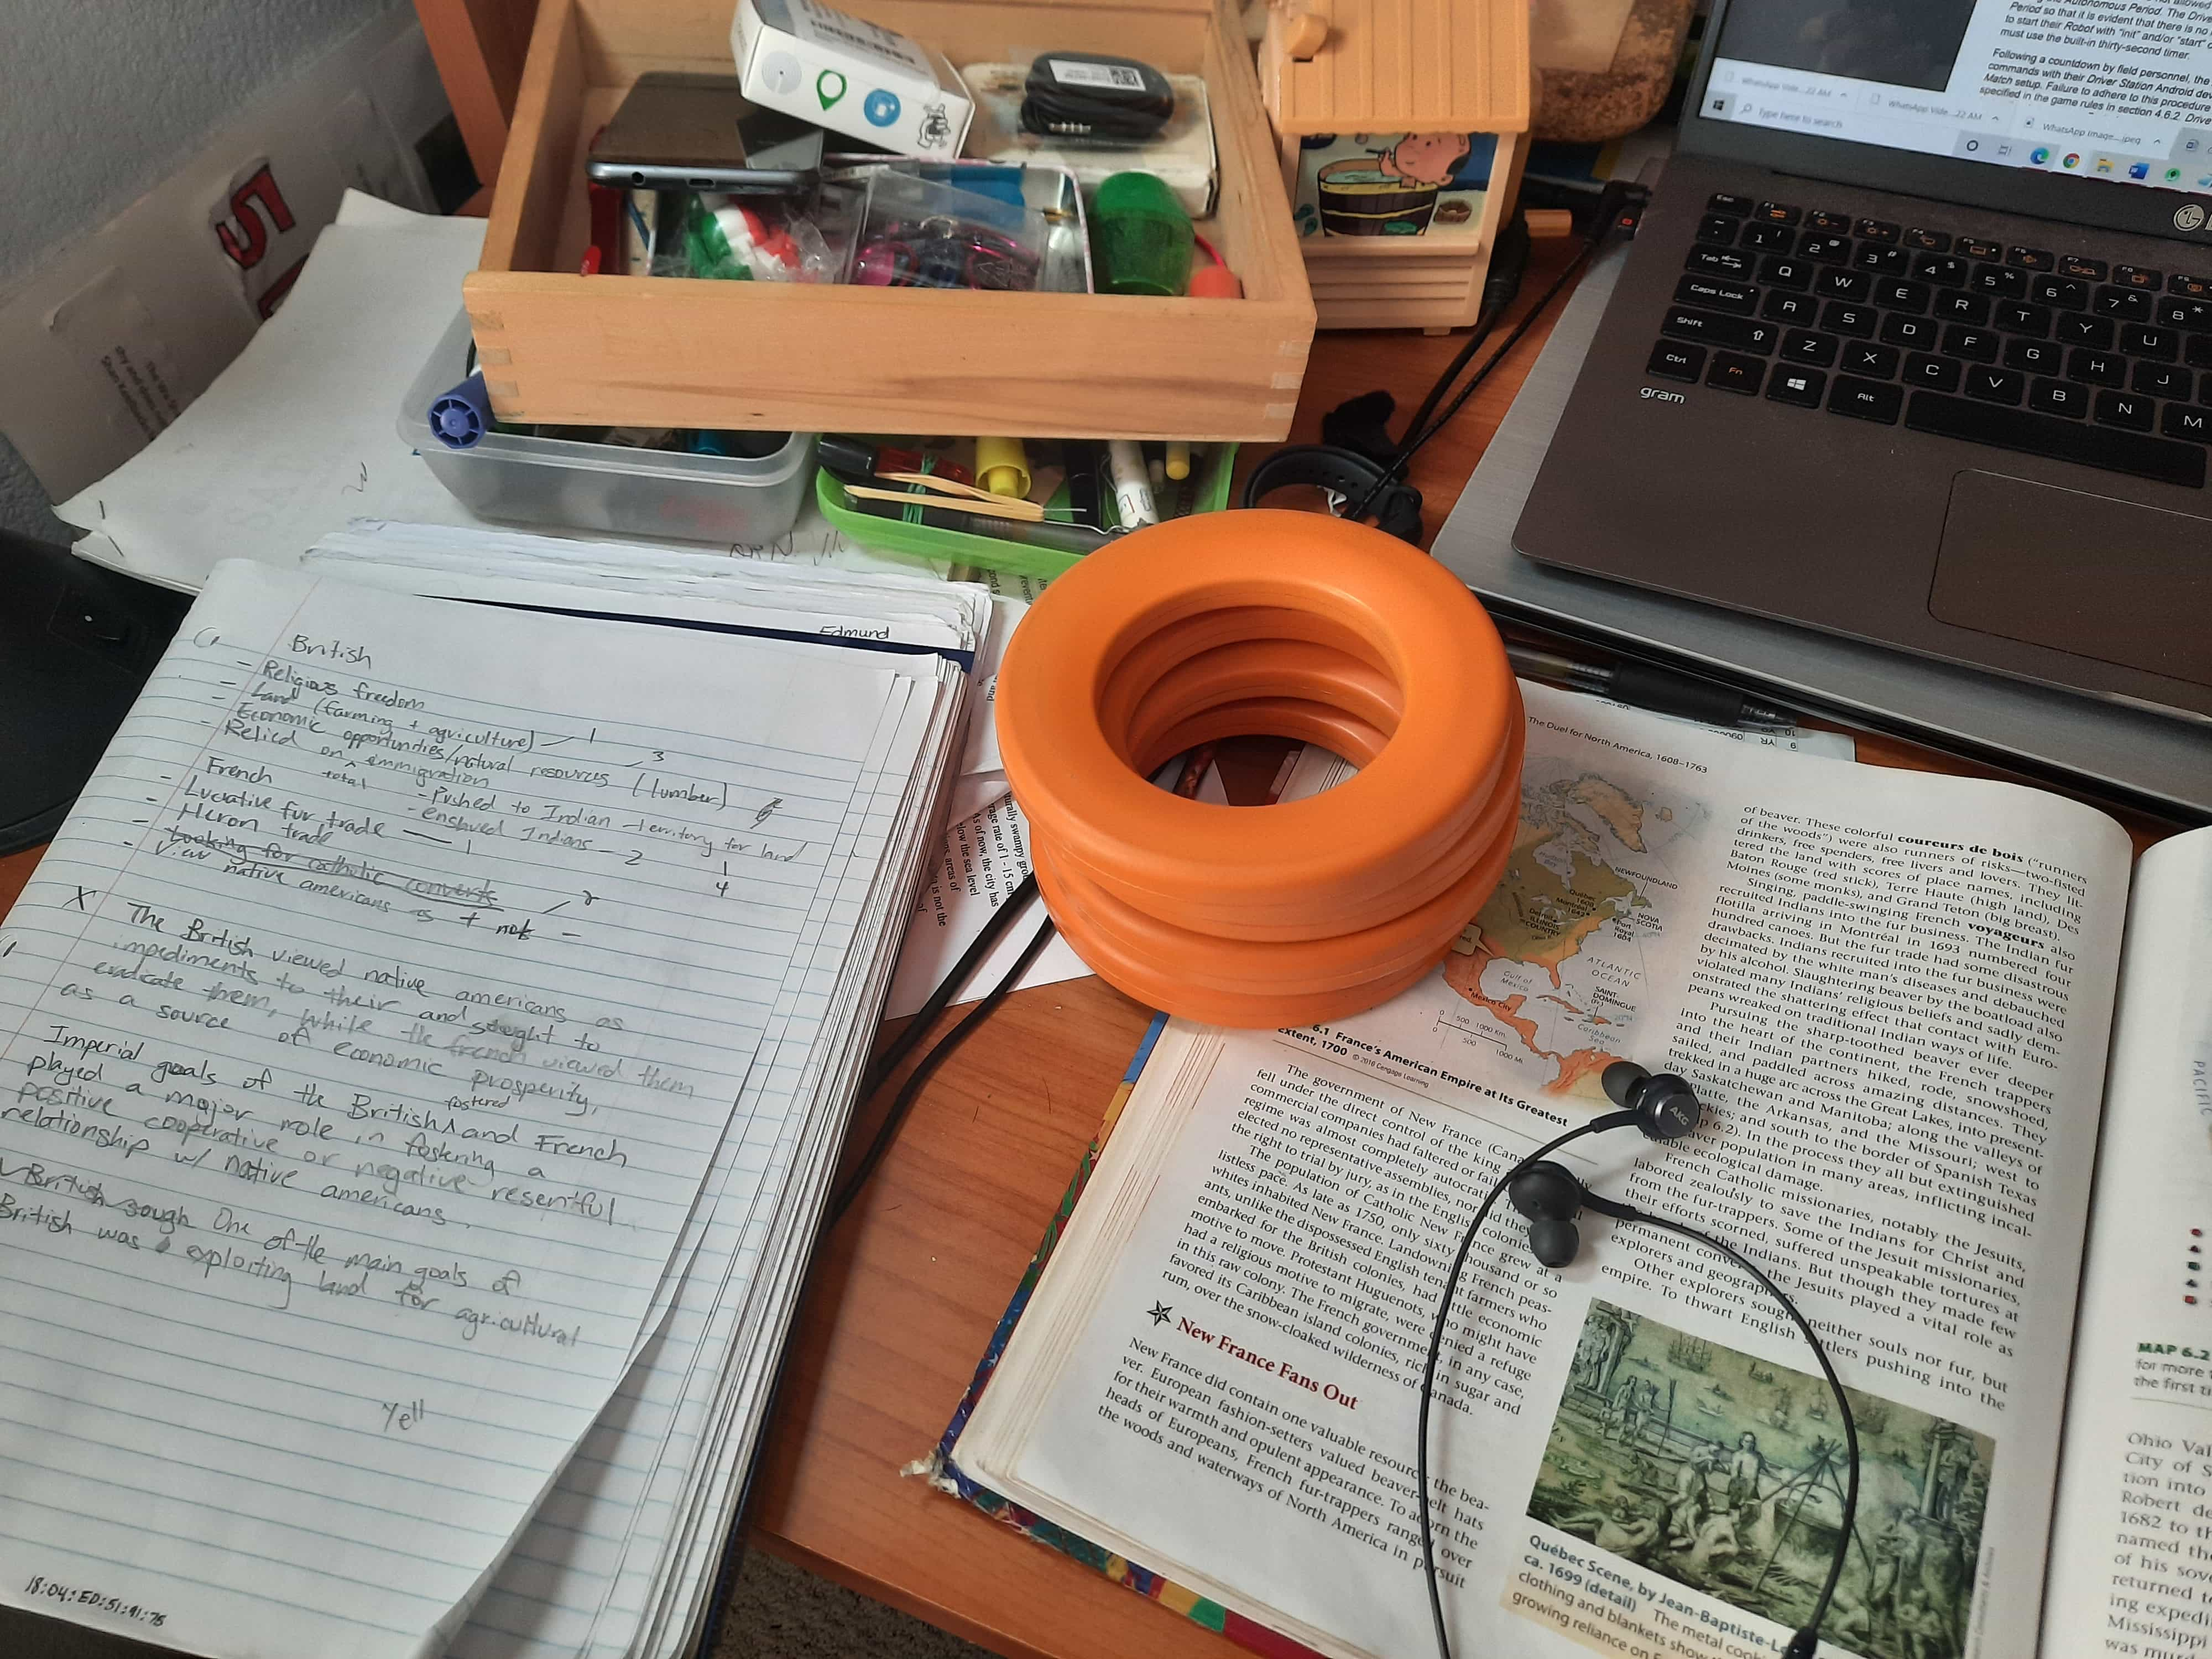FourStack: (1005, 512, 1503, 1026)
